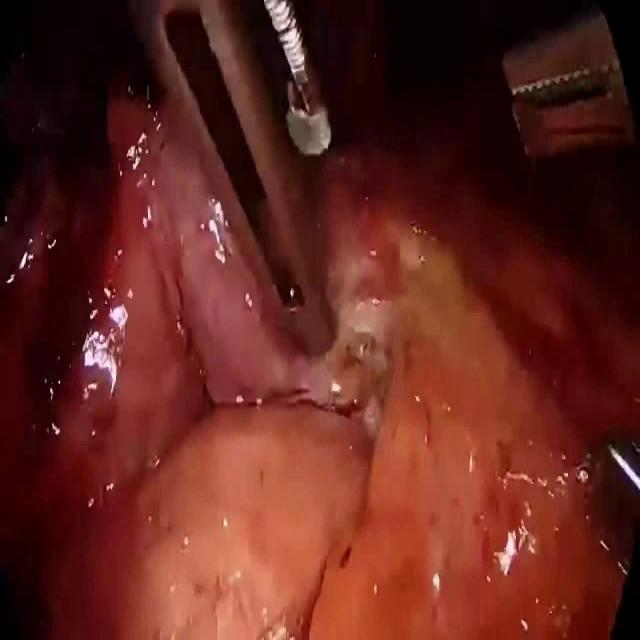surgical-area: (0, 0, 640, 639)
surgical-tool: (118, 0, 334, 356), (501, 14, 636, 156)
